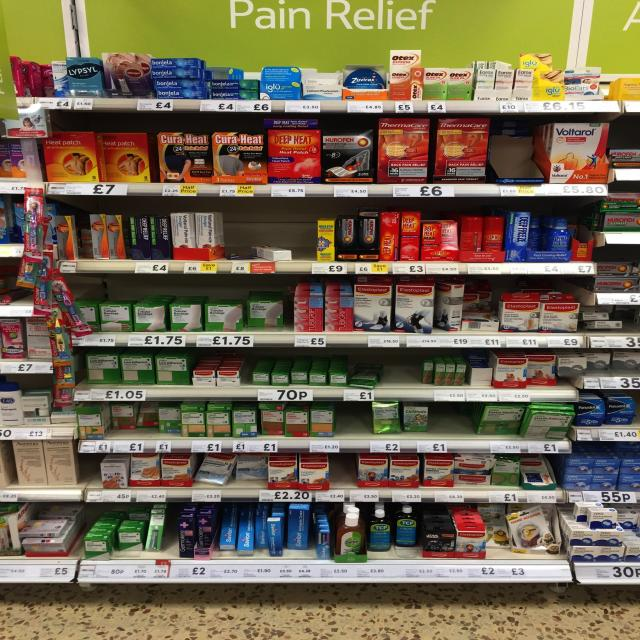empty_space: (236, 209, 300, 243), (498, 125, 530, 167), (332, 453, 358, 483), (442, 404, 471, 428), (392, 360, 420, 384), (80, 456, 100, 488), (342, 401, 360, 431)
